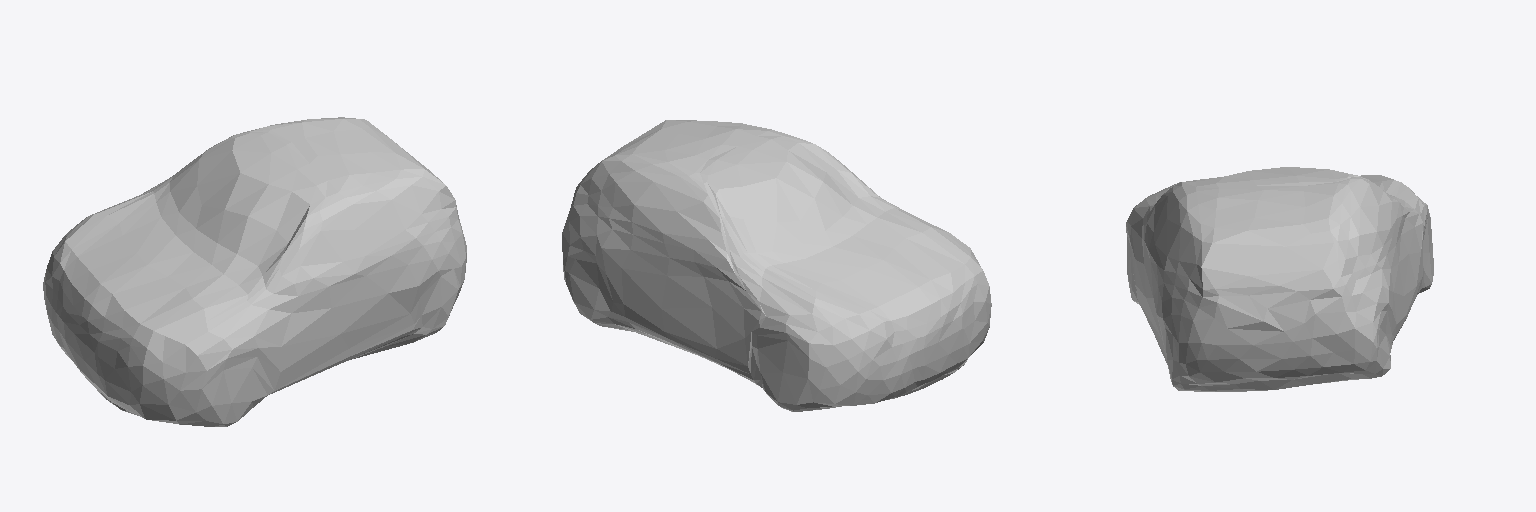
The model's file is video3_263.obj.
3 renders of one model, left to right at view 1: azimuth 30°, elevation 25°; view 2: azimuth 150°, elevation 25°; view 3: azimuth 270°, elevation 25°, orthographic.
Size of the model in its own units: 1 by 0.5166 by 0.7525.